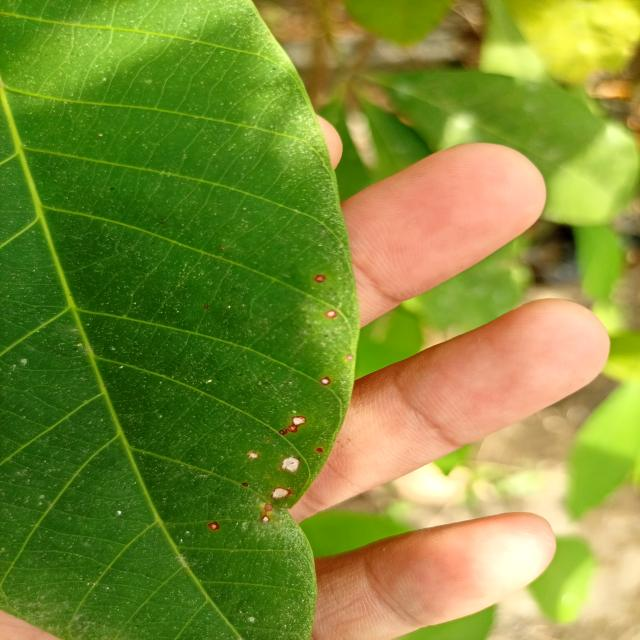Colletotrichum: (281, 456, 301, 472), (270, 487, 291, 499), (291, 416, 307, 426), (207, 521, 220, 531), (319, 376, 331, 386), (324, 310, 338, 318), (314, 275, 326, 283), (260, 515, 270, 522), (265, 504, 272, 511), (279, 430, 285, 435), (316, 448, 323, 452)
